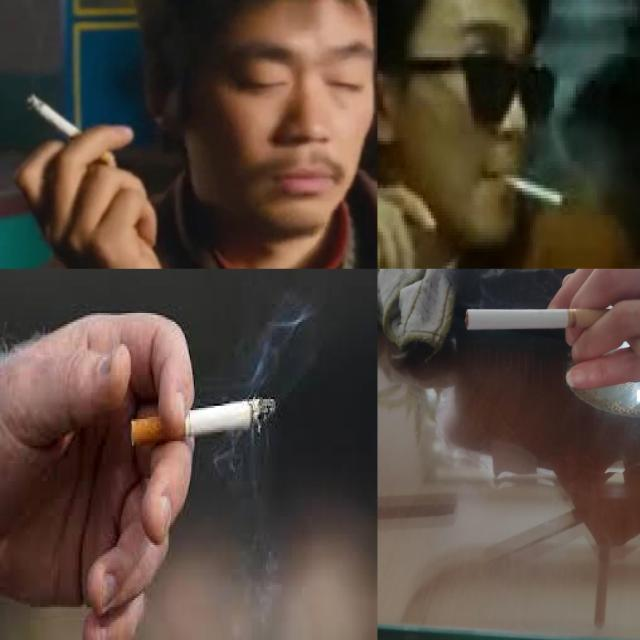smoking: (130, 398, 276, 448), (24, 93, 110, 164), (465, 306, 622, 331), (492, 171, 562, 205)
